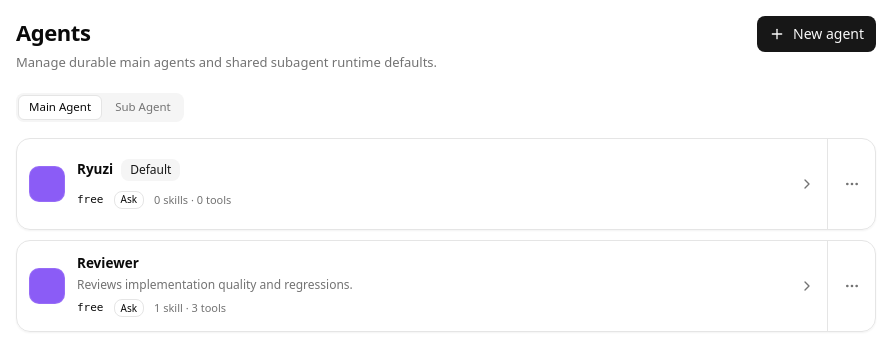
it: Sub Agent tab exposes one shared model and no create affordance
The image size is (893, 349).
Click the button "Sub Agent" at (143,107), box 104,94 -> 182,120
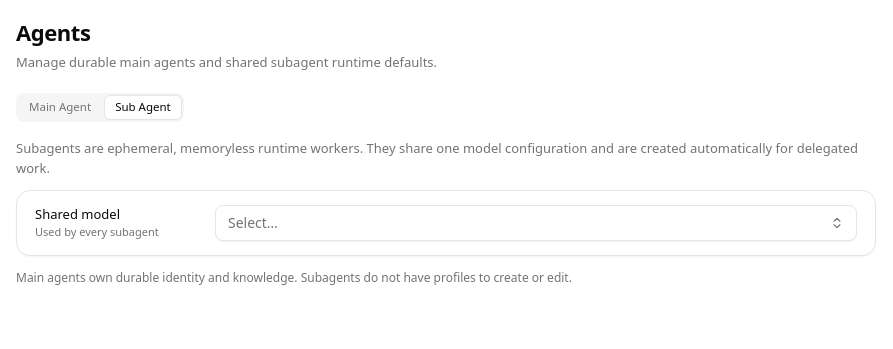
Expected: the text "ephemeral, memoryless runtime workers" is shown, 16,138 -> 858,176
Expected: the dropdown named "Shared subagent model" is shown, 215,204 -> 857,240
Expected: the button "New agent" is gone
